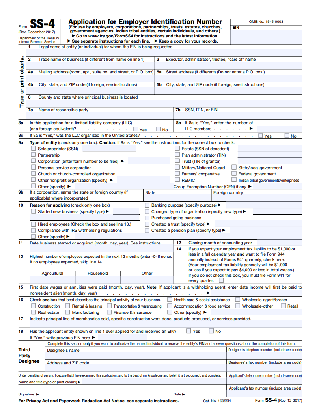checkbox: (257, 131, 264, 140), (30, 143, 37, 152), (30, 149, 37, 158), (30, 162, 37, 171), (30, 175, 37, 184), (30, 181, 37, 190), (132, 125, 139, 133), (30, 156, 37, 164), (30, 169, 37, 177), (30, 207, 37, 215), (30, 220, 37, 228), (30, 226, 37, 234), (30, 302, 37, 310), (30, 307, 37, 315), (64, 301, 71, 309), (284, 131, 290, 140), (174, 149, 180, 158), (174, 162, 180, 171), (155, 125, 162, 132), (166, 297, 173, 304), (166, 302, 173, 309), (166, 308, 173, 315), (235, 296, 242, 303), (234, 302, 241, 309), (280, 302, 287, 309), (185, 327, 192, 334), (208, 327, 215, 334), (174, 143, 180, 151), (174, 156, 180, 164), (174, 169, 180, 177), (174, 175, 180, 183), (231, 163, 237, 171), (231, 175, 237, 183), (218, 276, 224, 284), (144, 201, 150, 209), (144, 207, 150, 215), (144, 213, 150, 221), (144, 220, 150, 228), (144, 226, 150, 234), (30, 233, 36, 241), (106, 301, 112, 309), (231, 170, 237, 177), (64, 308, 70, 315), (106, 308, 112, 315)
textbox: (17, 314, 304, 329), (25, 43, 304, 58), (24, 93, 303, 108), (43, 357, 229, 373), (43, 345, 228, 361), (17, 238, 175, 254), (153, 68, 305, 83), (24, 106, 175, 121), (153, 56, 305, 70), (153, 81, 304, 95), (172, 105, 304, 121), (23, 55, 156, 70), (24, 68, 157, 83), (25, 81, 156, 95), (229, 23, 304, 45), (211, 188, 304, 203), (225, 345, 304, 361), (225, 370, 304, 386), (225, 358, 304, 373), (226, 383, 305, 398), (142, 187, 212, 202), (119, 269, 175, 285), (25, 269, 77, 285), (73, 269, 121, 285)
textline: (75, 235, 308, 240), (81, 378, 226, 386), (39, 390, 171, 398), (209, 290, 303, 297), (213, 221, 307, 228), (29, 216, 142, 221), (228, 227, 306, 234), (209, 310, 300, 316), (71, 185, 171, 190), (252, 182, 306, 190), (236, 153, 304, 159), (236, 159, 304, 165), (225, 204, 306, 209), (236, 146, 303, 152), (96, 334, 153, 341), (116, 178, 172, 184), (82, 147, 138, 153), (126, 159, 172, 166), (255, 126, 301, 133), (184, 390, 227, 397), (251, 210, 303, 215), (110, 210, 142, 215)
